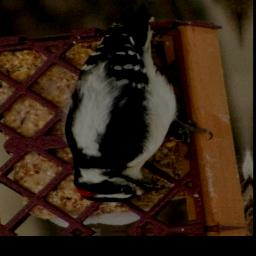Woodpecker: (59, 2, 217, 203)
